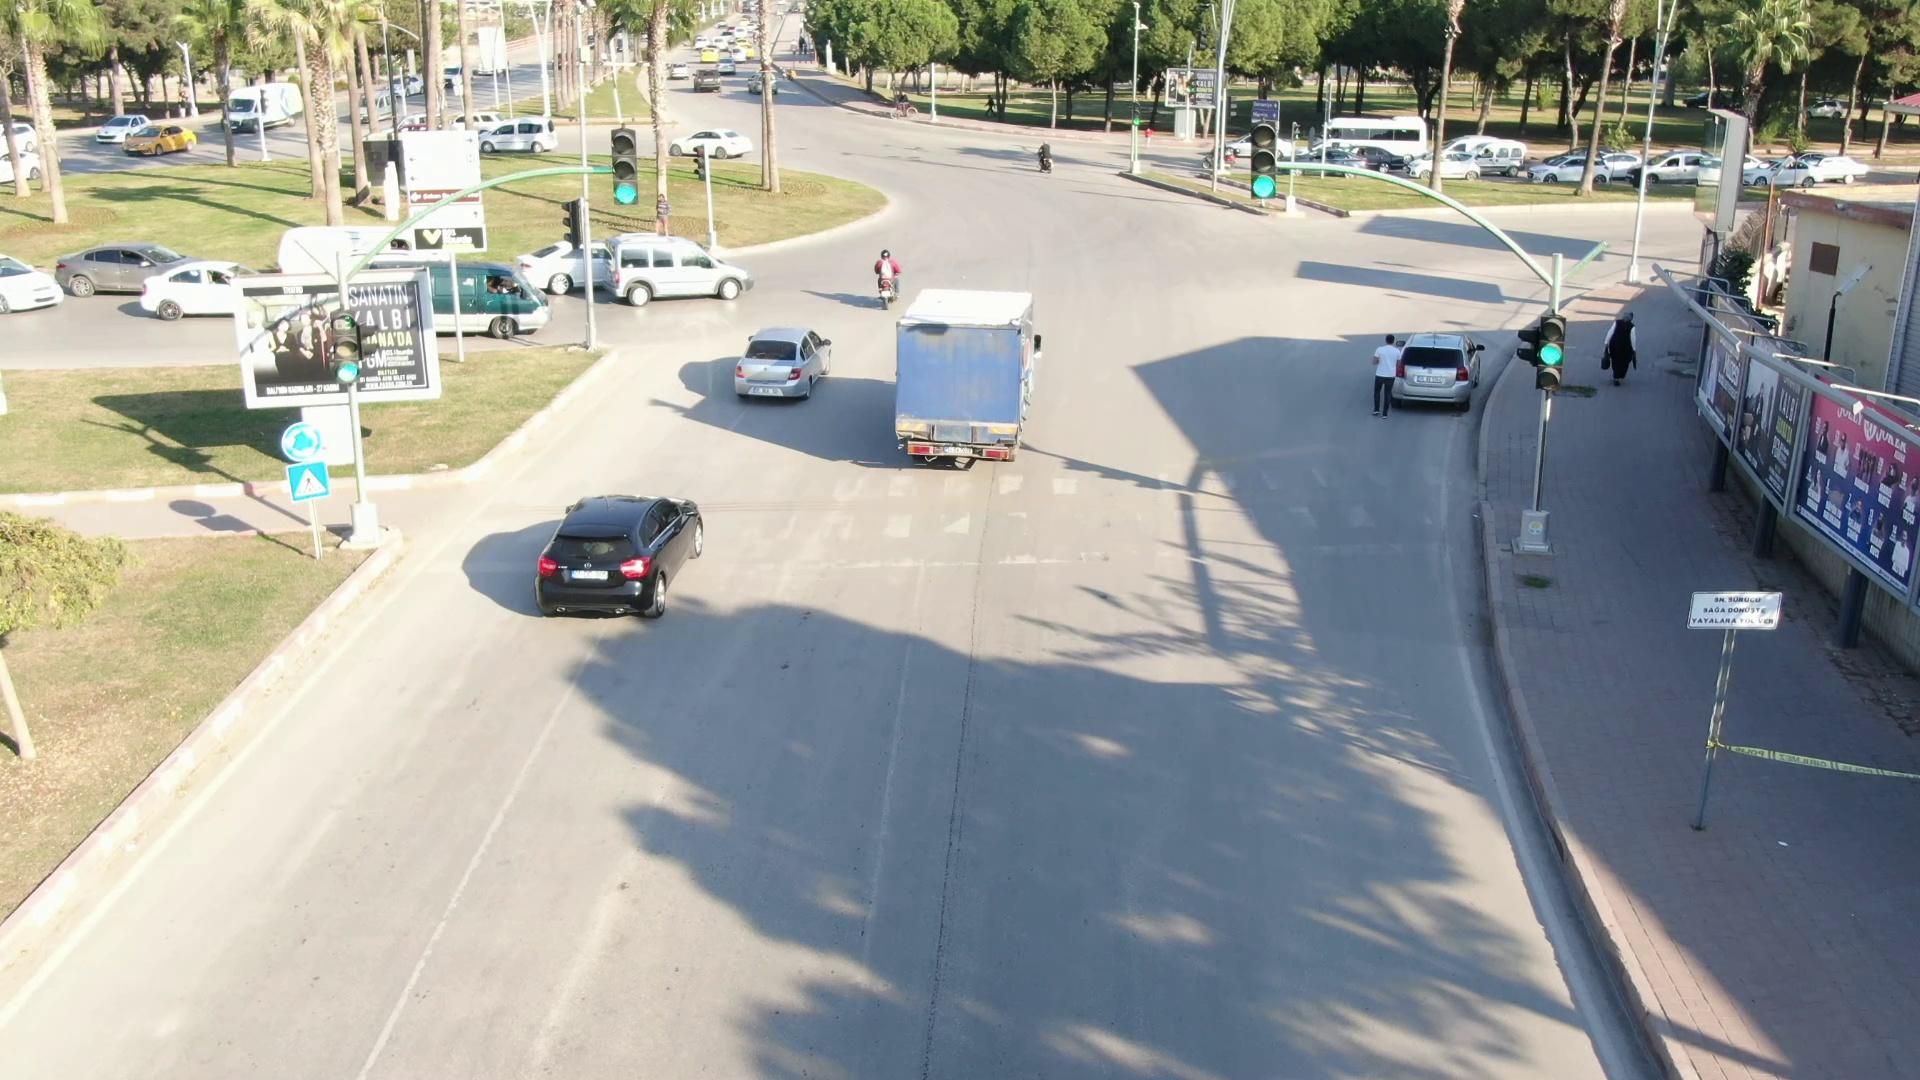car: (522, 477, 711, 621), (40, 230, 225, 313), (597, 229, 755, 307), (719, 317, 839, 409), (1304, 100, 1443, 176), (88, 99, 199, 165), (204, 82, 308, 141), (1519, 136, 1612, 193)
person: (1595, 304, 1653, 386), (1357, 327, 1407, 419)
